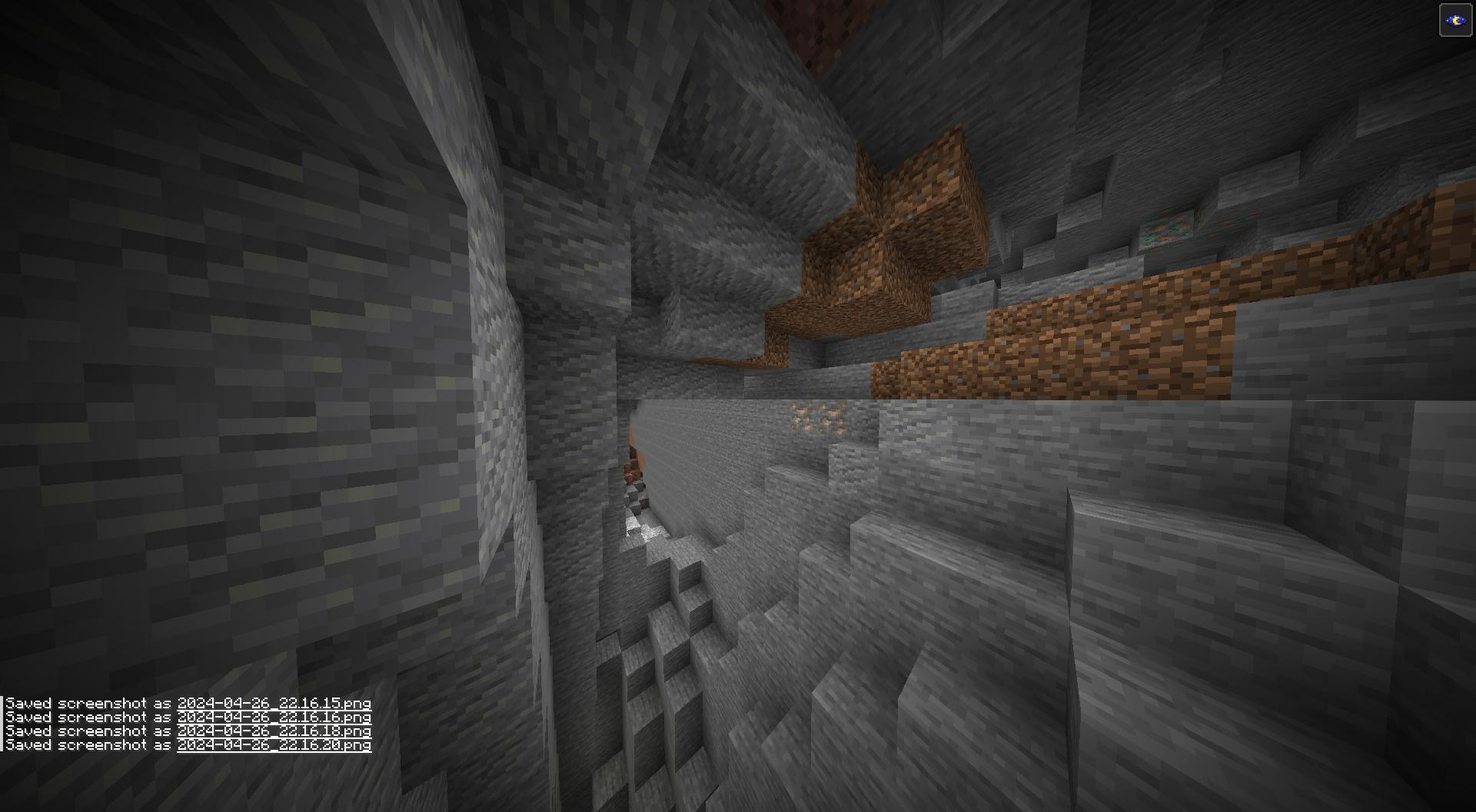iron ore: (820, 398, 848, 435), (794, 401, 818, 430)
